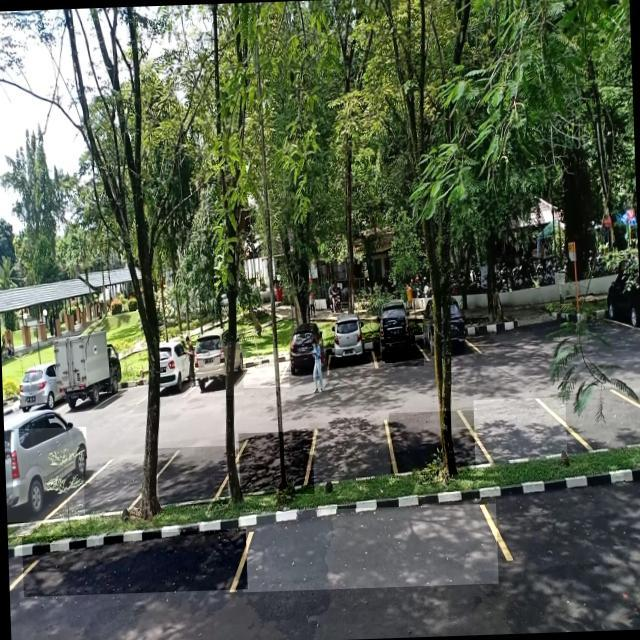empty: (240, 503, 499, 592), (21, 528, 248, 596), (473, 397, 567, 462), (388, 410, 476, 476), (308, 420, 392, 484), (238, 430, 314, 496), (156, 446, 228, 506), (82, 454, 146, 514), (237, 347, 289, 388), (108, 377, 148, 410)
occupied: (3, 426, 88, 522), (188, 341, 244, 396), (374, 317, 424, 367), (326, 322, 378, 369)
